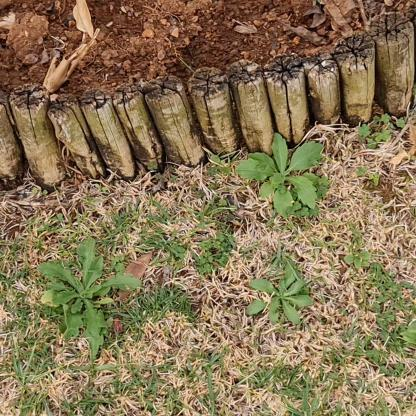Weeds: (39, 236, 142, 357), (235, 131, 325, 221), (247, 262, 314, 326), (345, 253, 372, 268)
